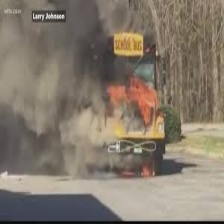smoke: (2, 14, 97, 174)
